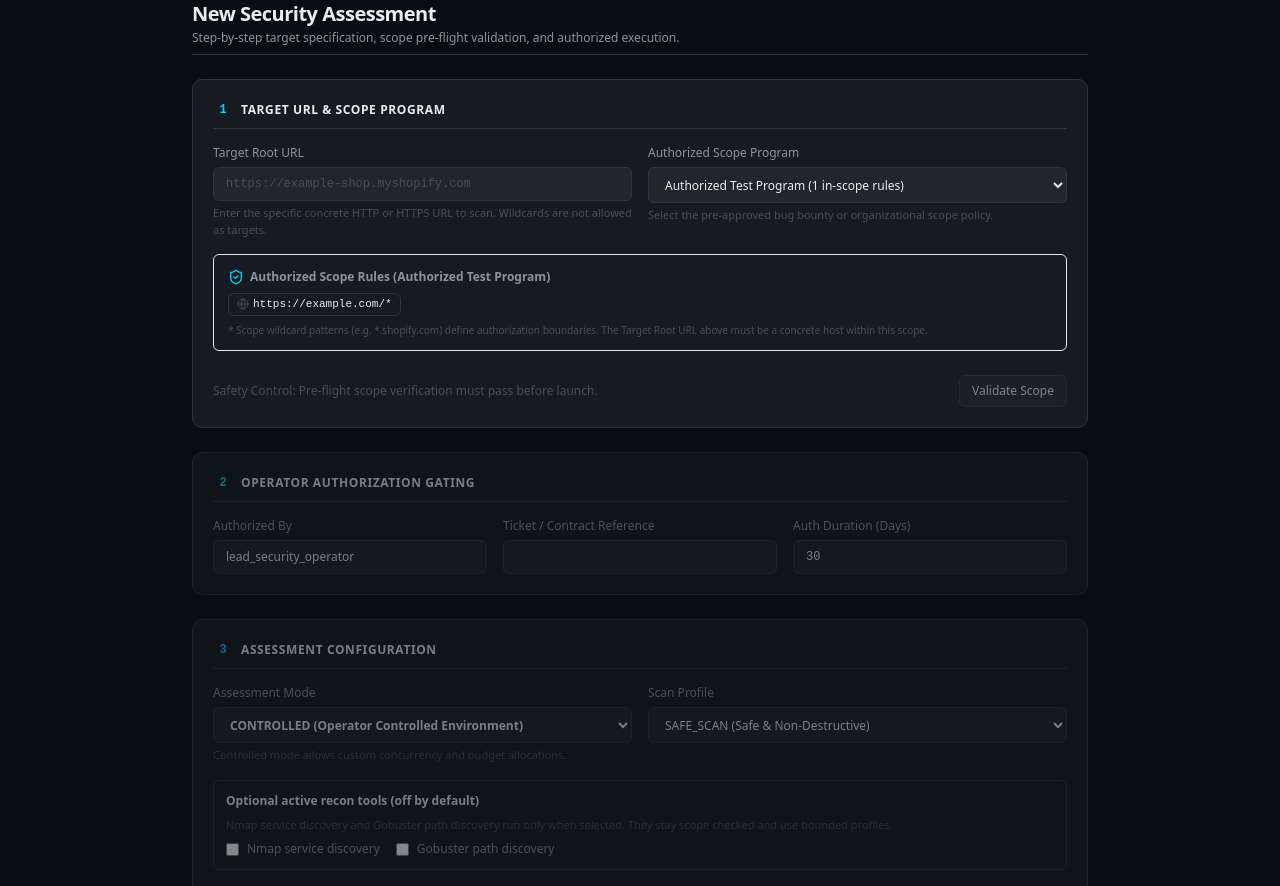
Test case: Scope UI Safety Tests (Section 24) › displays SCOPE VALIDATED and enables launch when target is authorized
Type "https://example.com/api" into the field with placeholder "https://example-shop.myshopify.com".
click(422, 184); type("https://example.com/api")  # box 213,167 -> 632,201
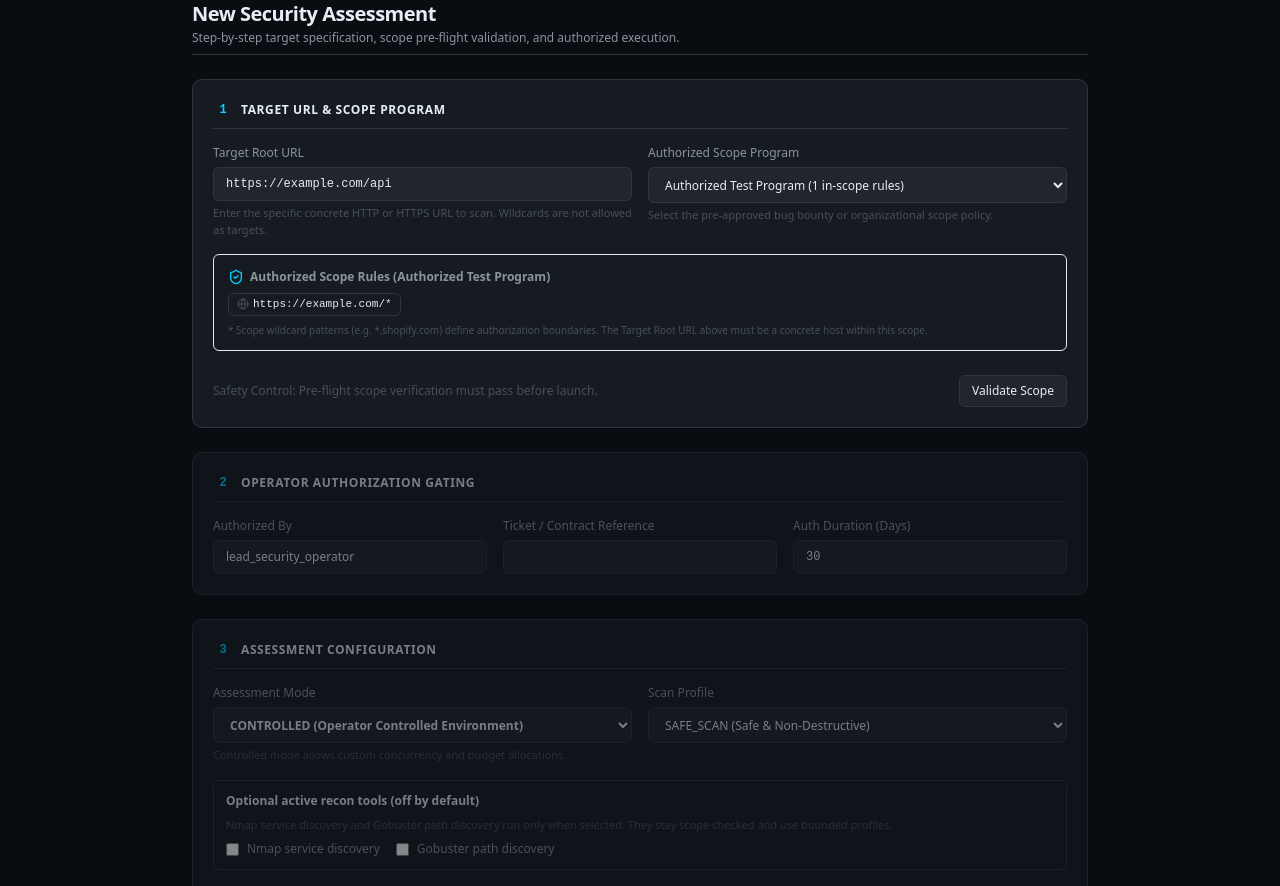
Click the button "Validate Scope".
click(1013, 391)  # box 959,375 -> 1067,407
(page scrolled)
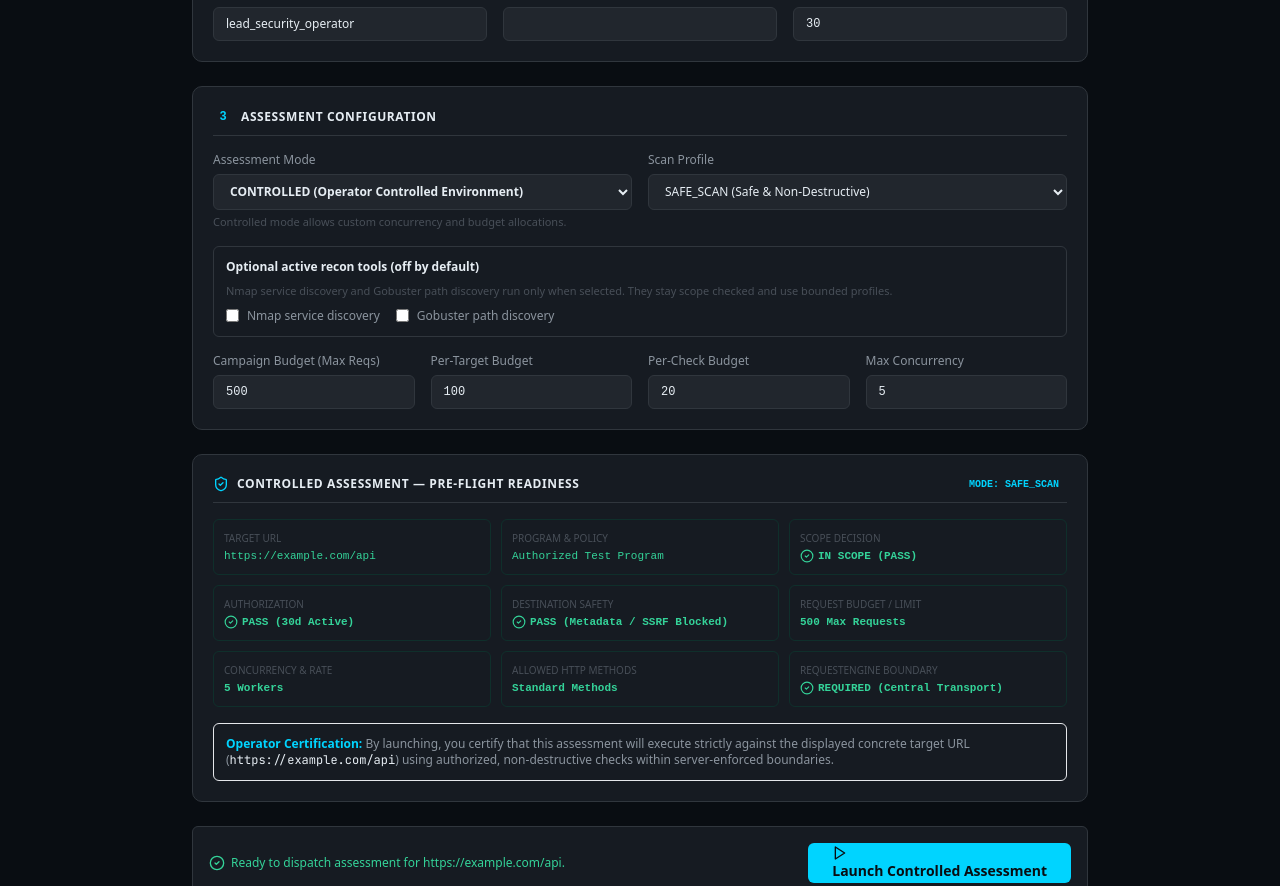
expect the button "Launch Controlled Assessment" is enabled: met, box 808,843 -> 1071,883
